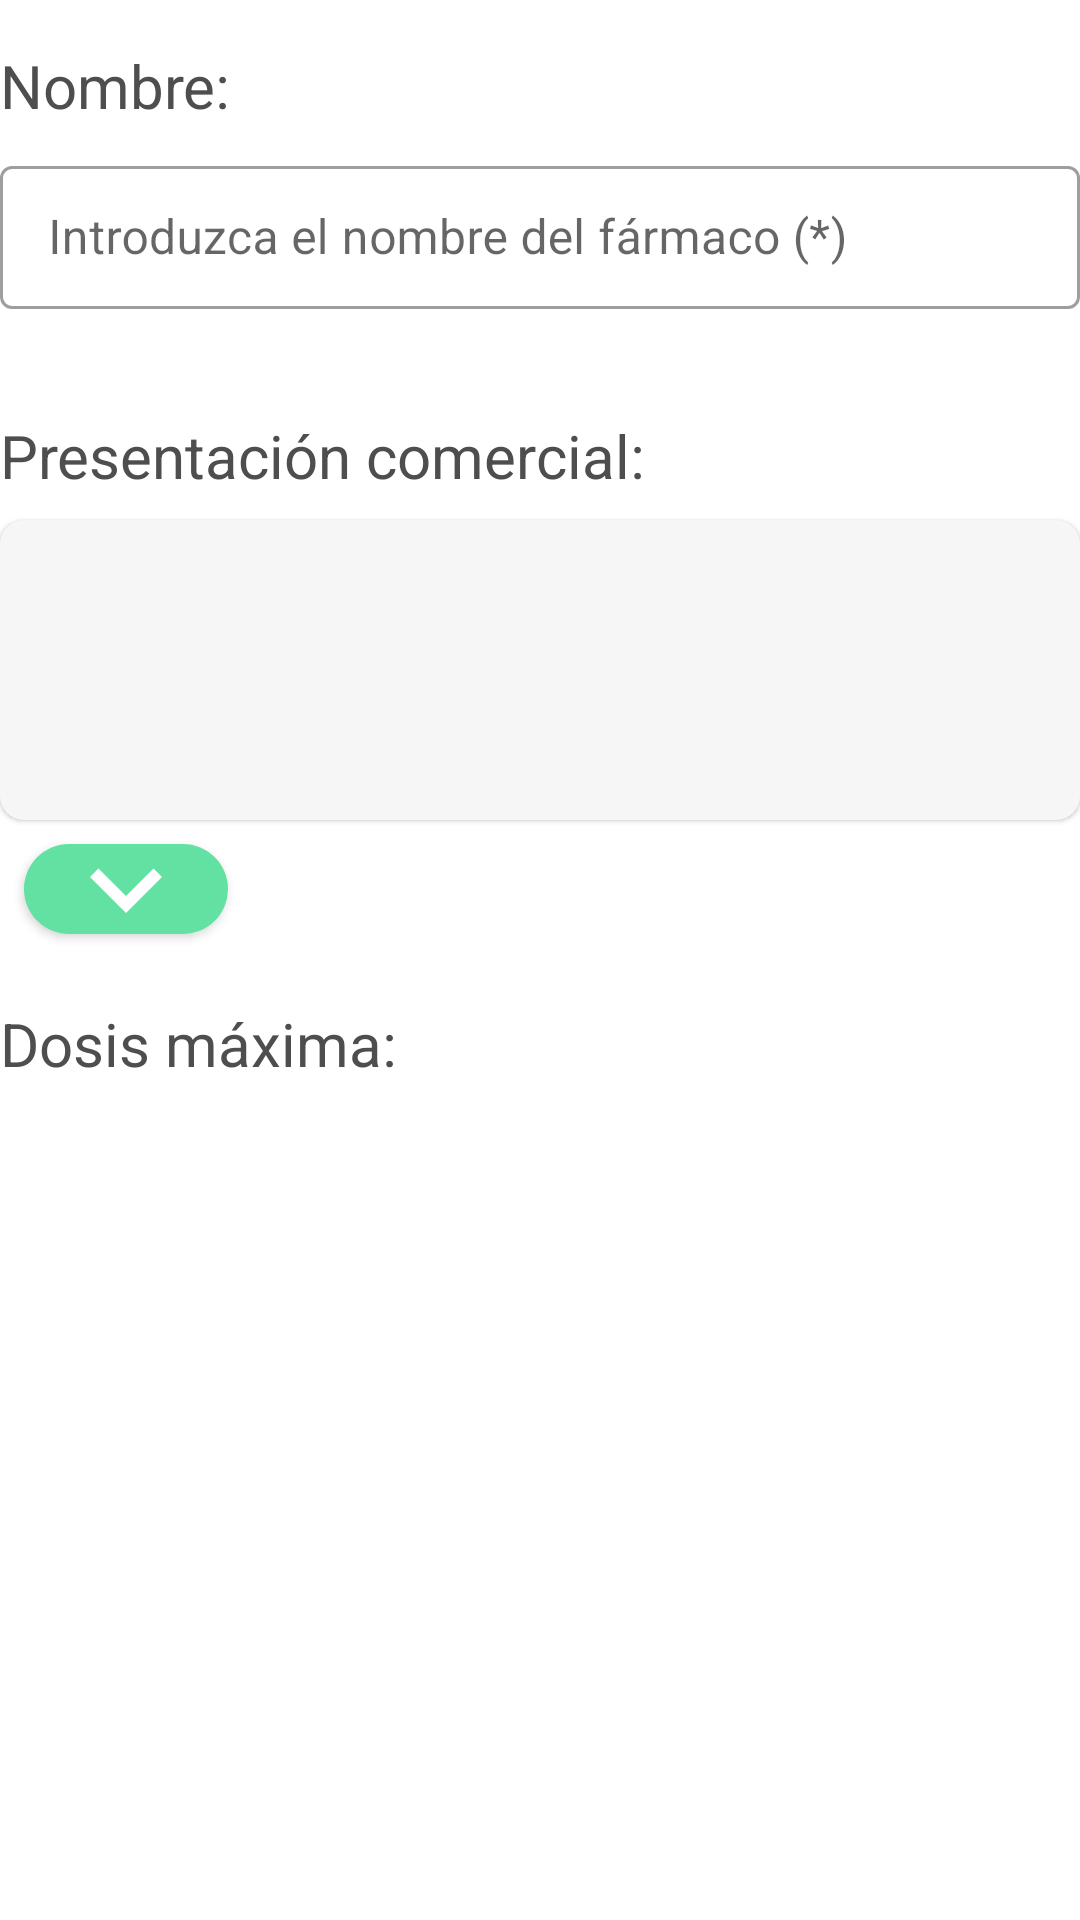

Icon bounding boxes for this 1080×1920 phone screenshot, format (x1, y1, x2, y2):
more: (24, 844, 228, 934)
